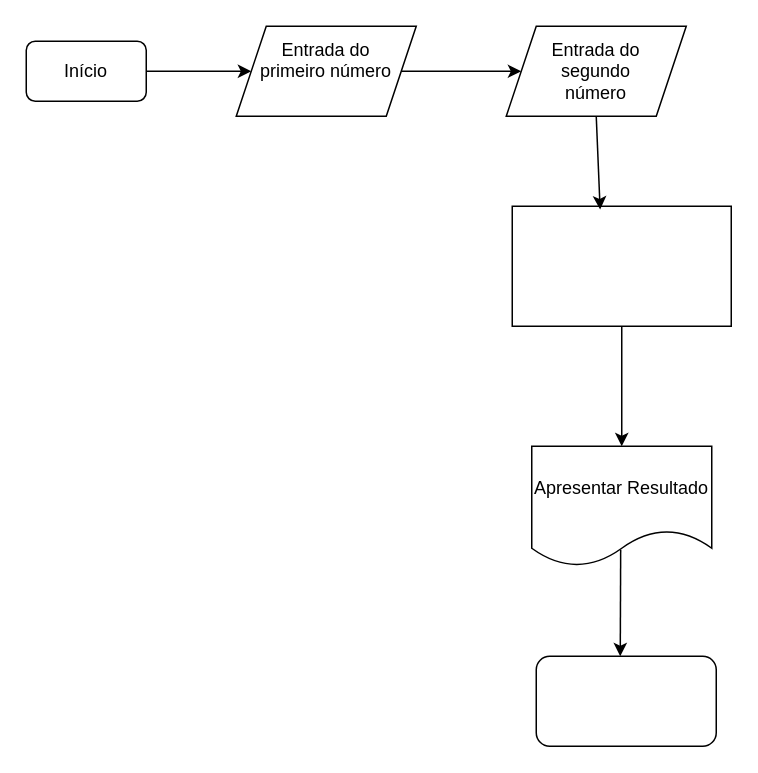
Some shapes in this 758 by 773 pixel diagram are drawn without their labels. Each missing label, with the box of its shape:
Calcular Média: (primeiro número) + (segundo número) / 2: (511, 205, 731, 326)
Fim: (535, 655, 716, 746)
